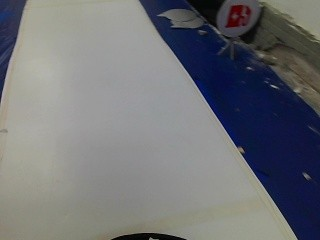battery: (218, 1, 258, 40)
